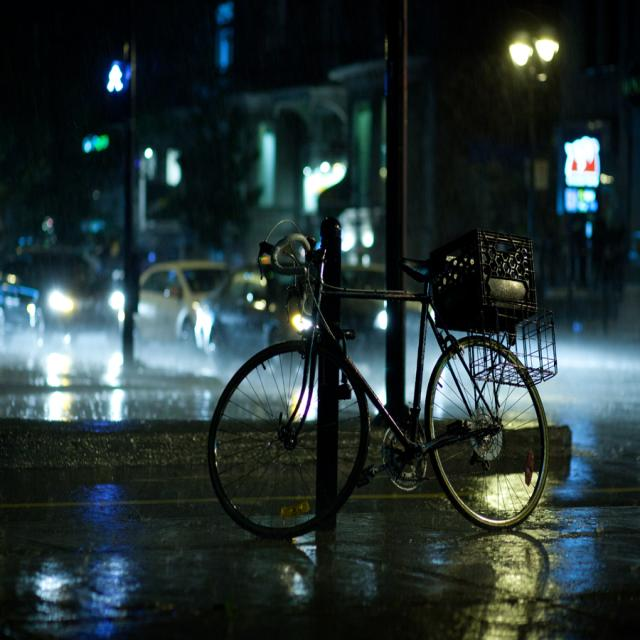Bicycle: (205, 207, 571, 578)
